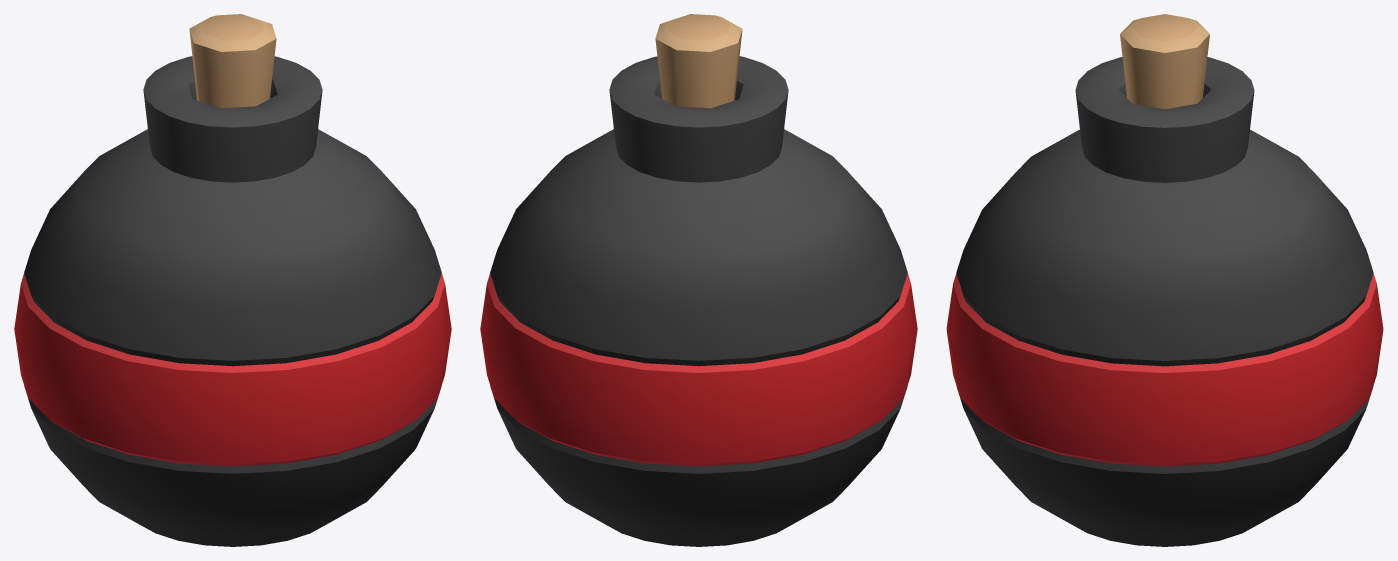
Rendered from kaykit_bomb_B_red.glb.
The picture shows the model from 3 angles, left to right: view 1: azimuth 30°, elevation 25°; view 2: azimuth 150°, elevation 25°; view 3: azimuth 270°, elevation 25°; orthographic projection.
Visible parts, largest first — view 1: bomb_B_red_visual; view 2: bomb_B_red_visual; view 3: bomb_B_red_visual.
Boxes of the visible parts, box(x1,y1,x2,y2) form: bomb_B_red_visual: box(14, 14, 451, 546); bomb_B_red_visual: box(480, 14, 917, 546); bomb_B_red_visual: box(946, 14, 1383, 546).
Size of what is drawn, in the model's own units: 0.8 by 1.01 by 0.8.
Materials: 1 (1 with a texture image).
